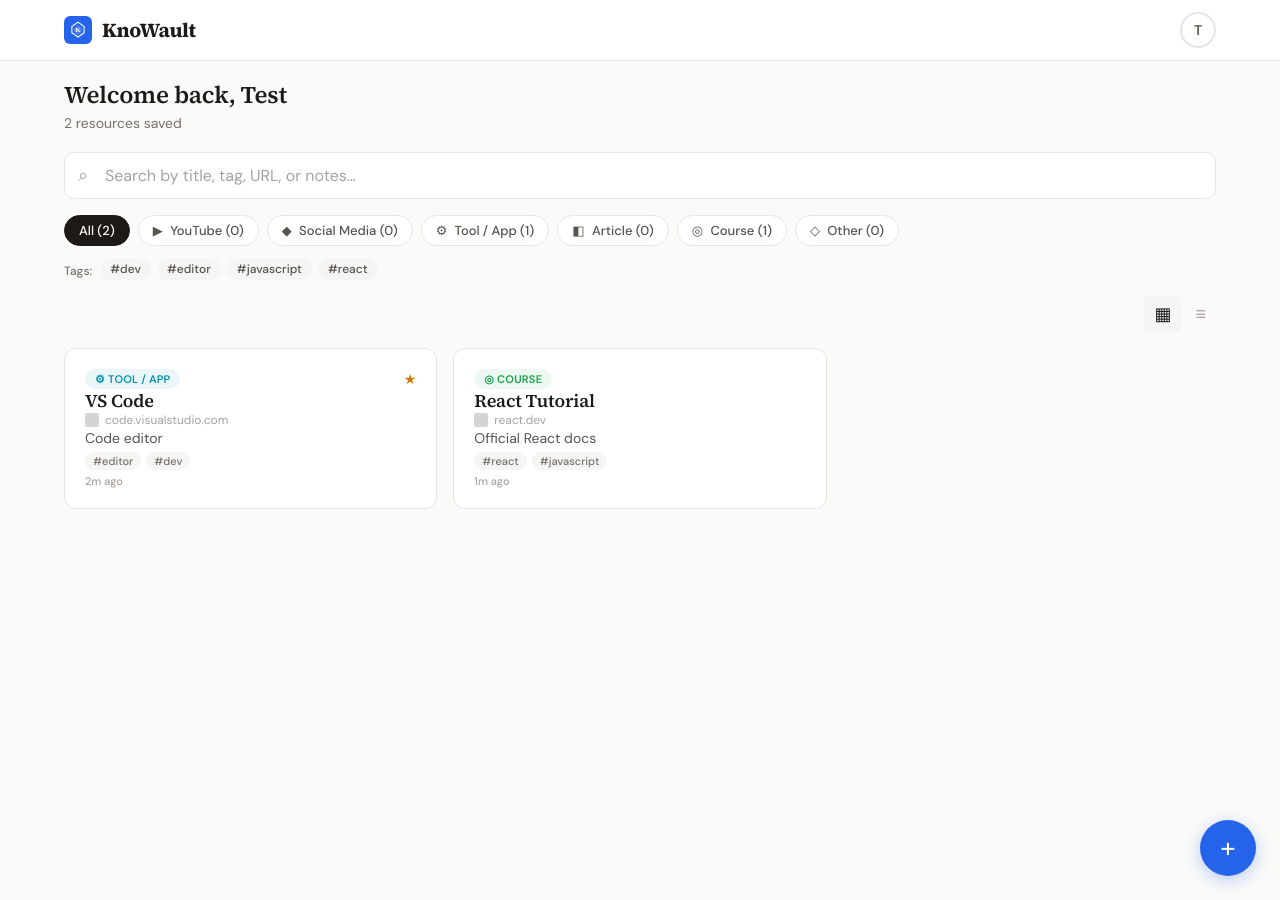
Test case: KnowledgeVault › filters items by search query
Type "React" into the field with placeholder "Search by title, tag, URL, or notes…" at (640, 175), box [64,152,1216,199]
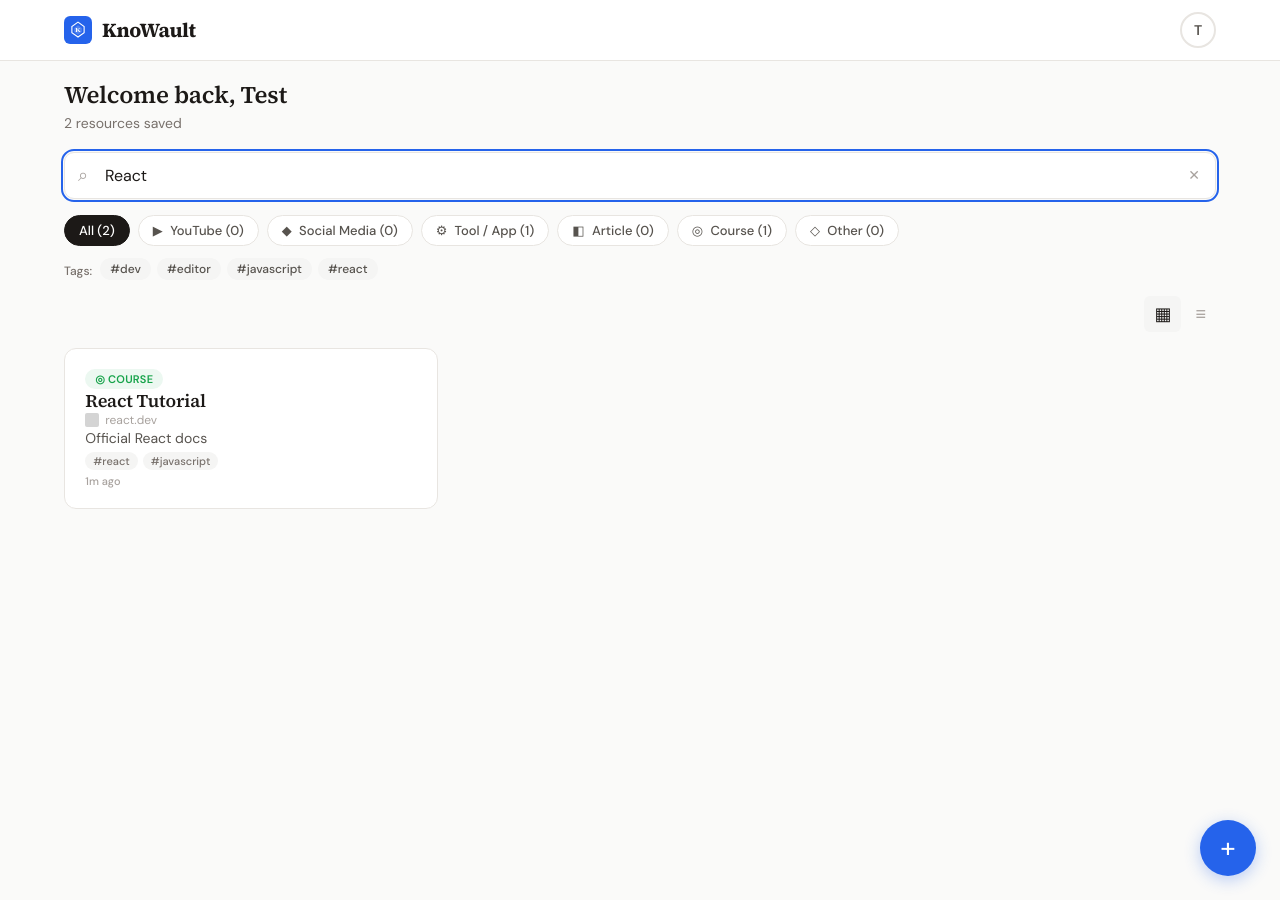
Expected: the heading "React Tutorial" is shown, [85,388,206,413]
Now the heading "VS Code" is gone
